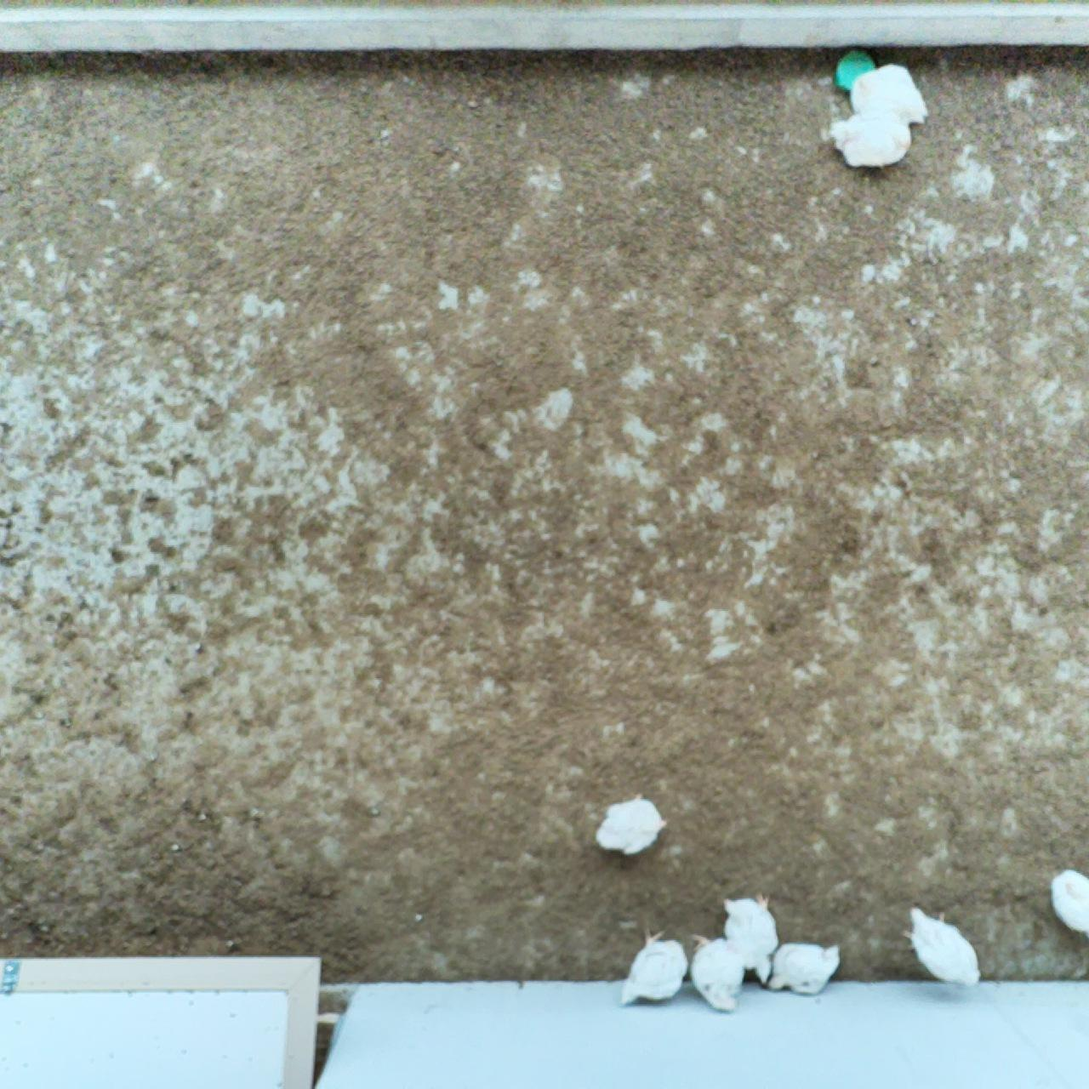chicken: (900, 897, 981, 984), (616, 924, 693, 1005), (825, 108, 917, 172), (594, 788, 673, 857), (848, 63, 929, 129), (685, 929, 748, 1012), (722, 895, 776, 987), (766, 939, 844, 996), (1047, 860, 1089, 944)
